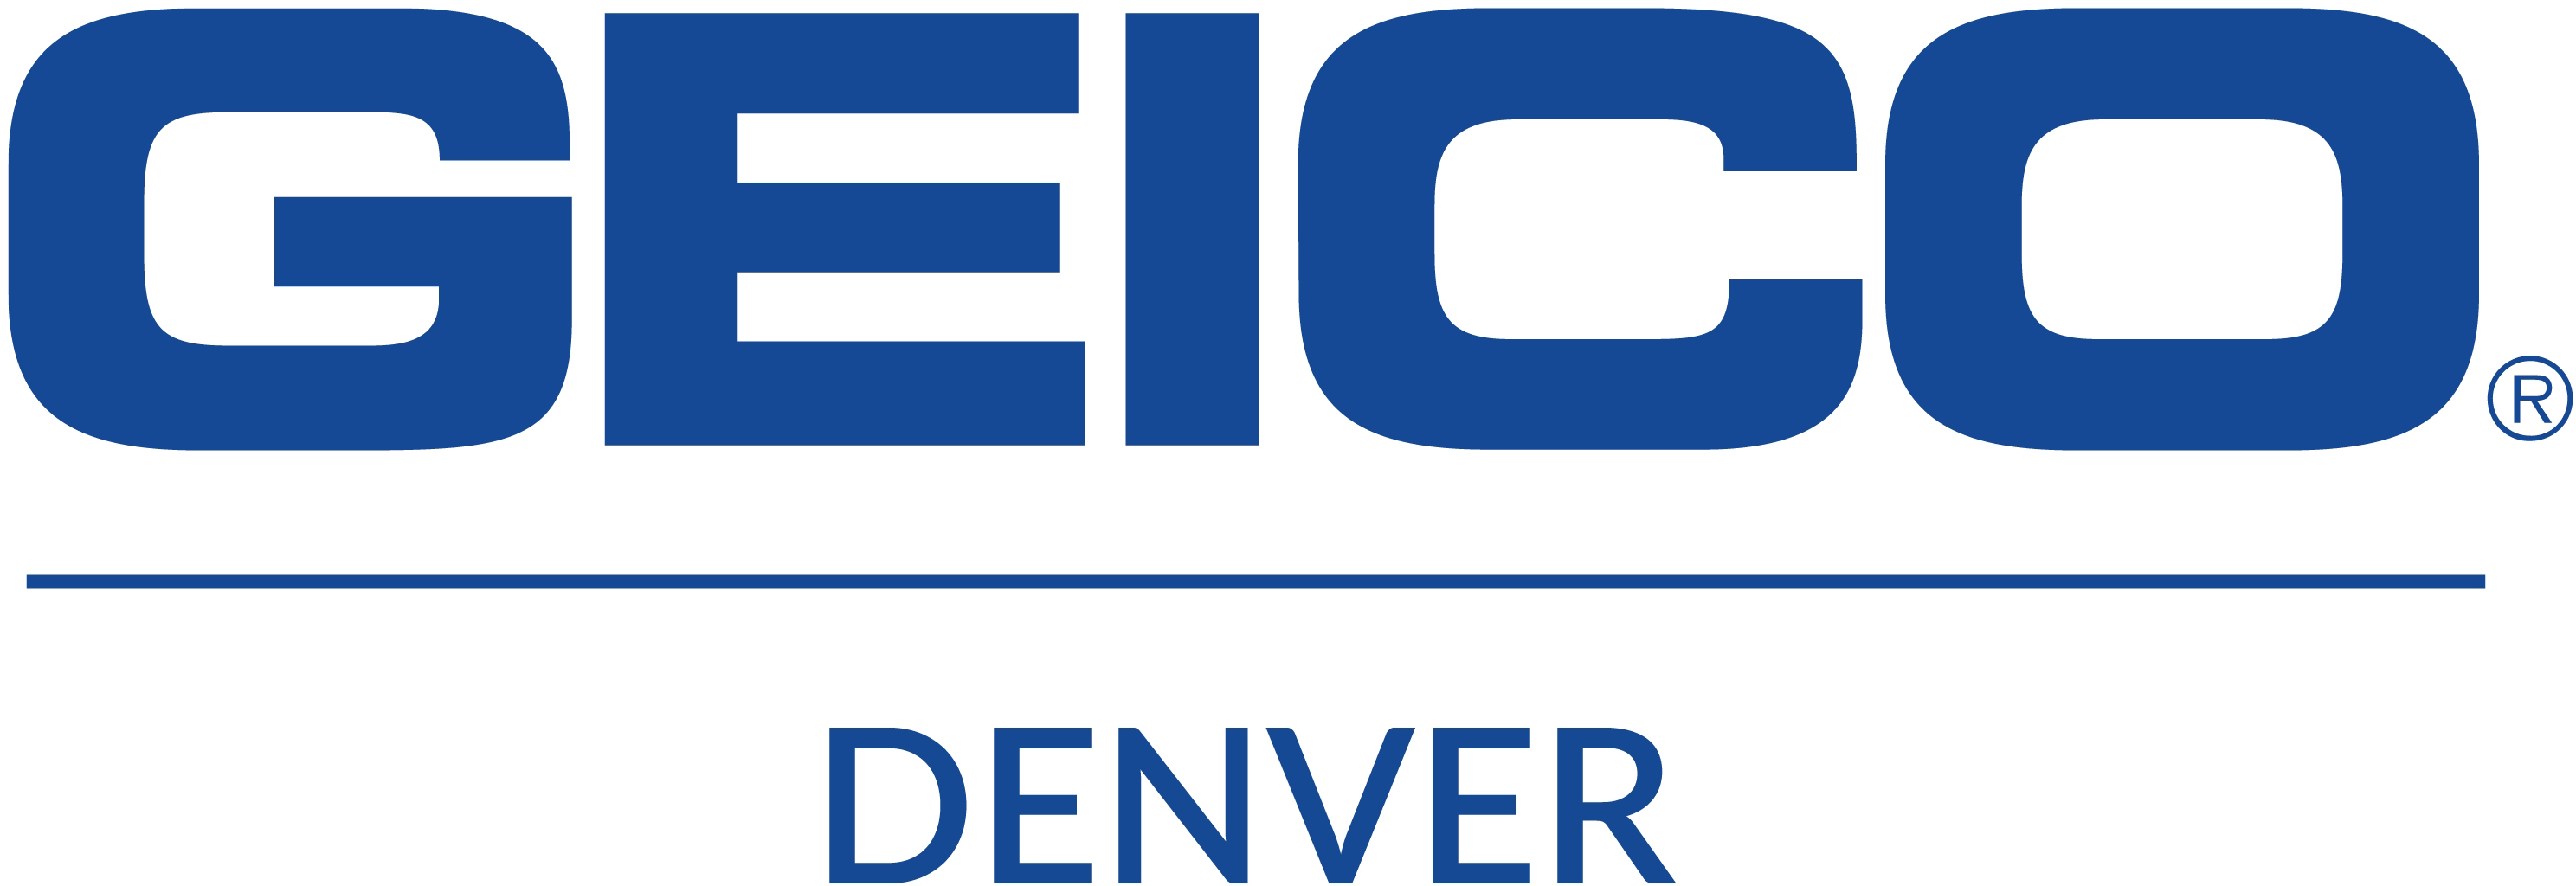Geico: (8, 2, 2576, 504)
